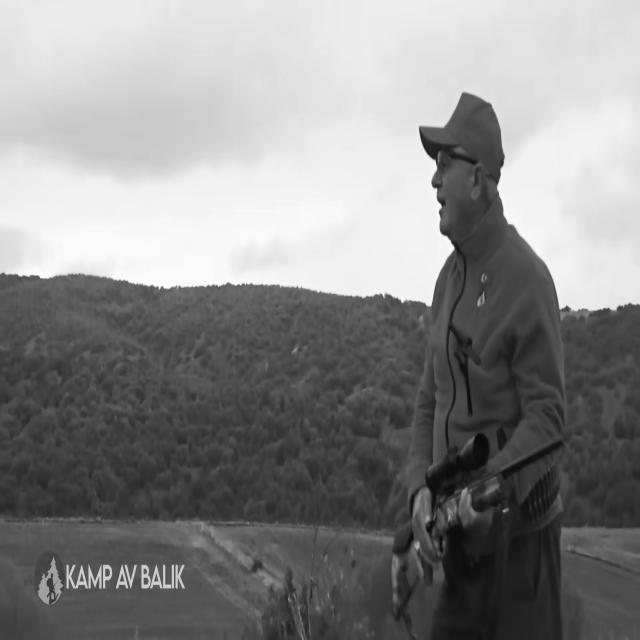monkey: (408, 92, 565, 638)
